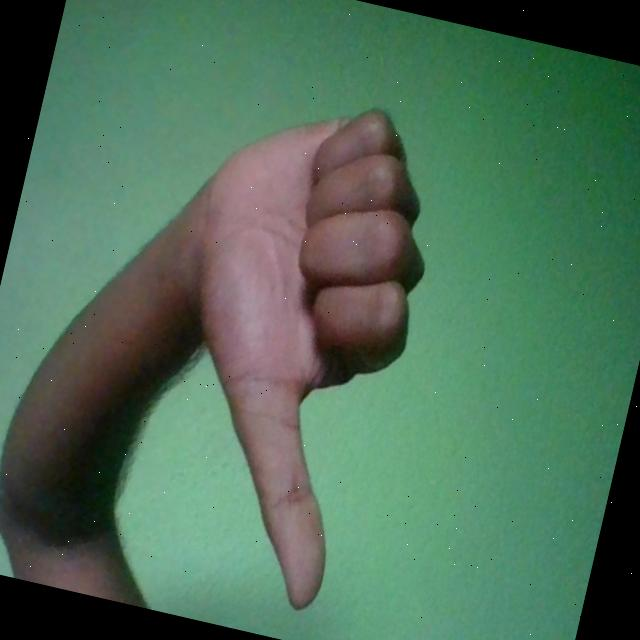Dislike: (120, 72, 456, 621)
